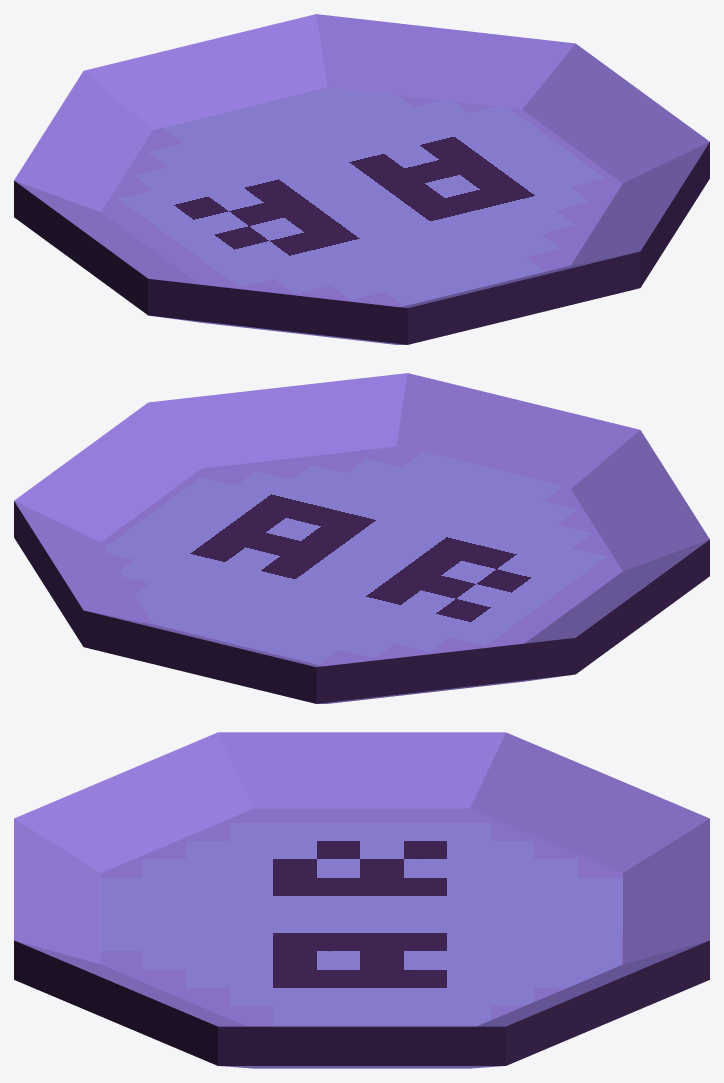
The model's file is Plate.fbx.
The picture shows the model from 3 angles, top to bottom: view 1: azimuth 30°, elevation 25°; view 2: azimuth 150°, elevation 25°; view 3: azimuth 270°, elevation 25°; orthographic projection. The views are drawn at different scales.
Parts seen in each view (by area): view 1: cylinder; view 2: cylinder; view 3: cylinder.
Boxes of the visible parts, left/top/right/bottom form: cylinder: left=14, top=14, right=709, bottom=344; cylinder: left=14, top=373, right=709, bottom=703; cylinder: left=14, top=732, right=709, bottom=1068.
Size of the model in its own units: 100 by 12.5 by 100.
Materials: 1 (1 with a texture image).
